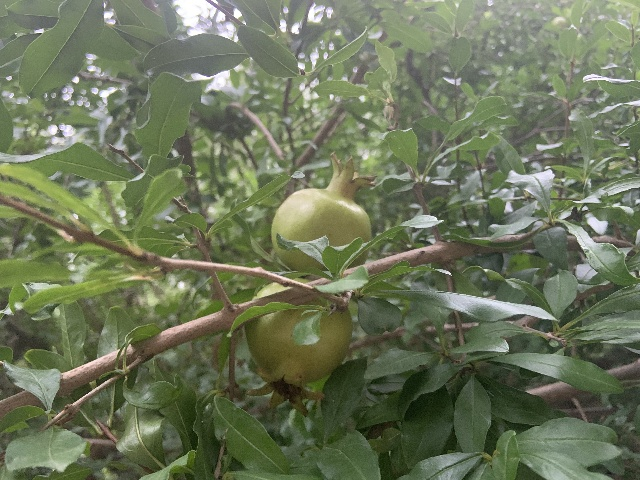mid-growth: (244, 277, 353, 416), (271, 151, 374, 270)
